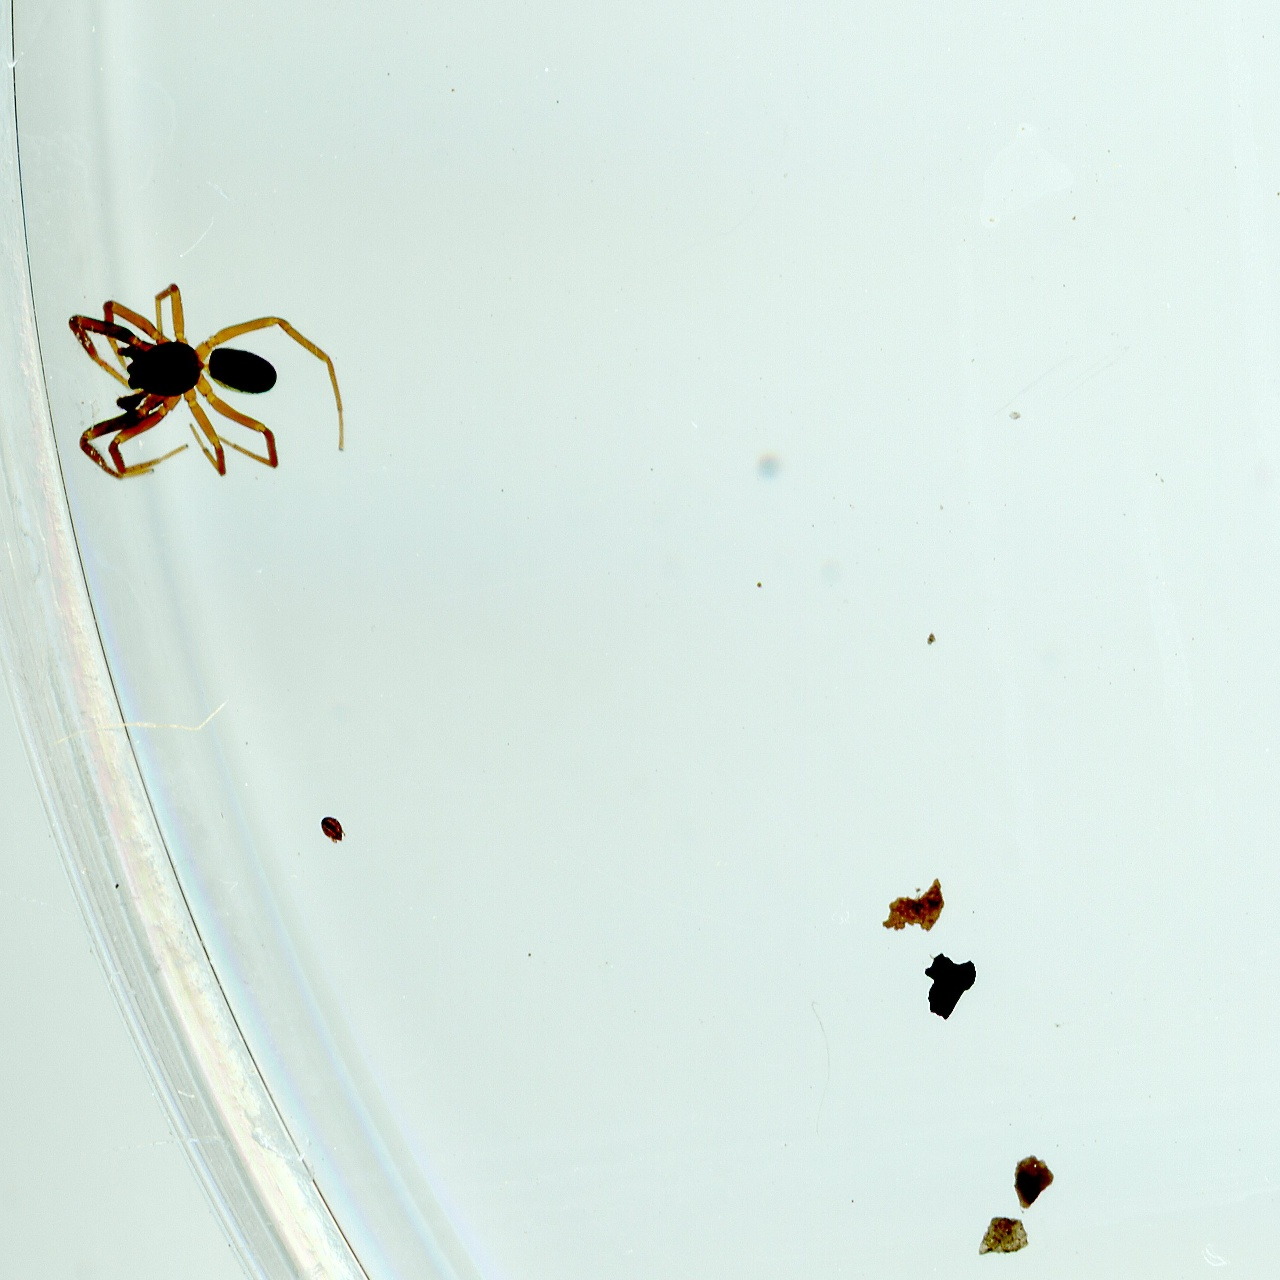arthropod: (54, 275, 365, 479), (307, 805, 355, 852)
